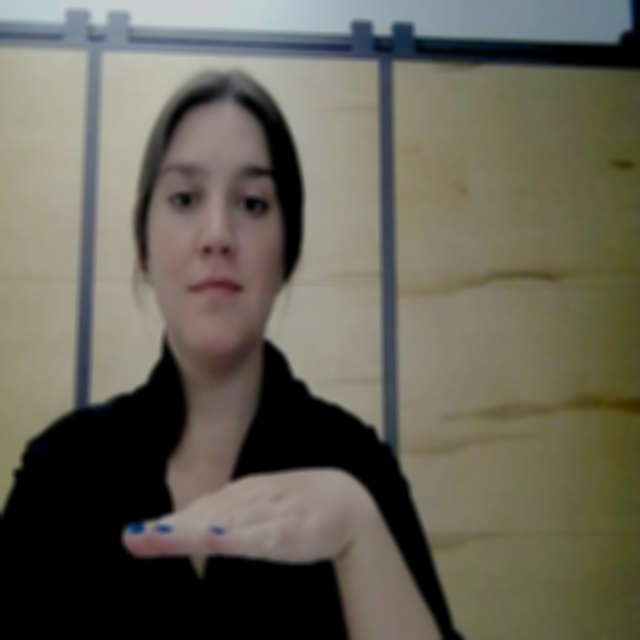Paper: (118, 448, 377, 593)
